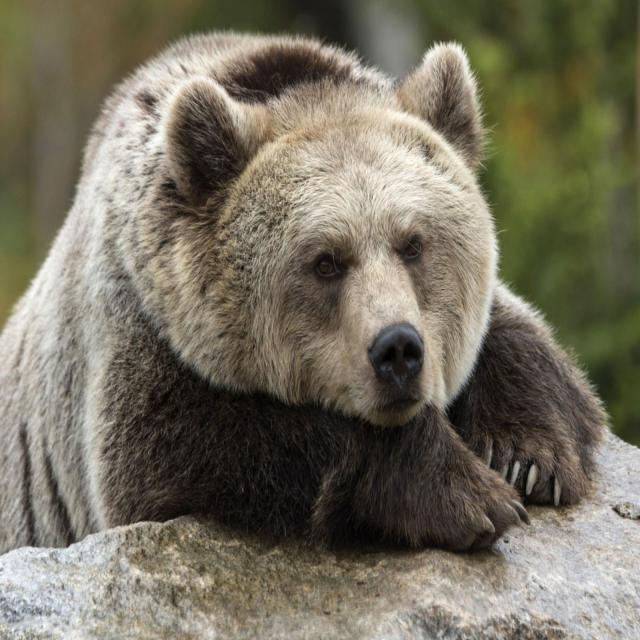Bear: (0, 30, 612, 559)
